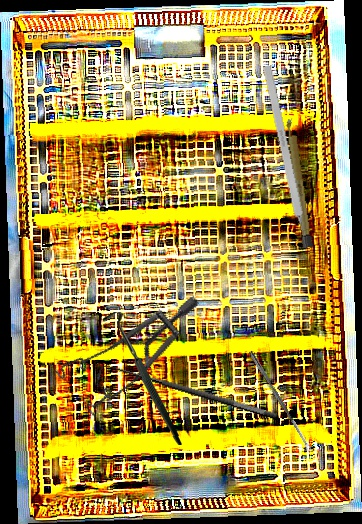Hook Surgical: (93, 356, 279, 434), (99, 311, 185, 446), (262, 65, 311, 250)
Scalpel Handle: (285, 117, 313, 249)
Speculum: (42, 255, 202, 439)
Surgical Spoon: (247, 350, 313, 453)
